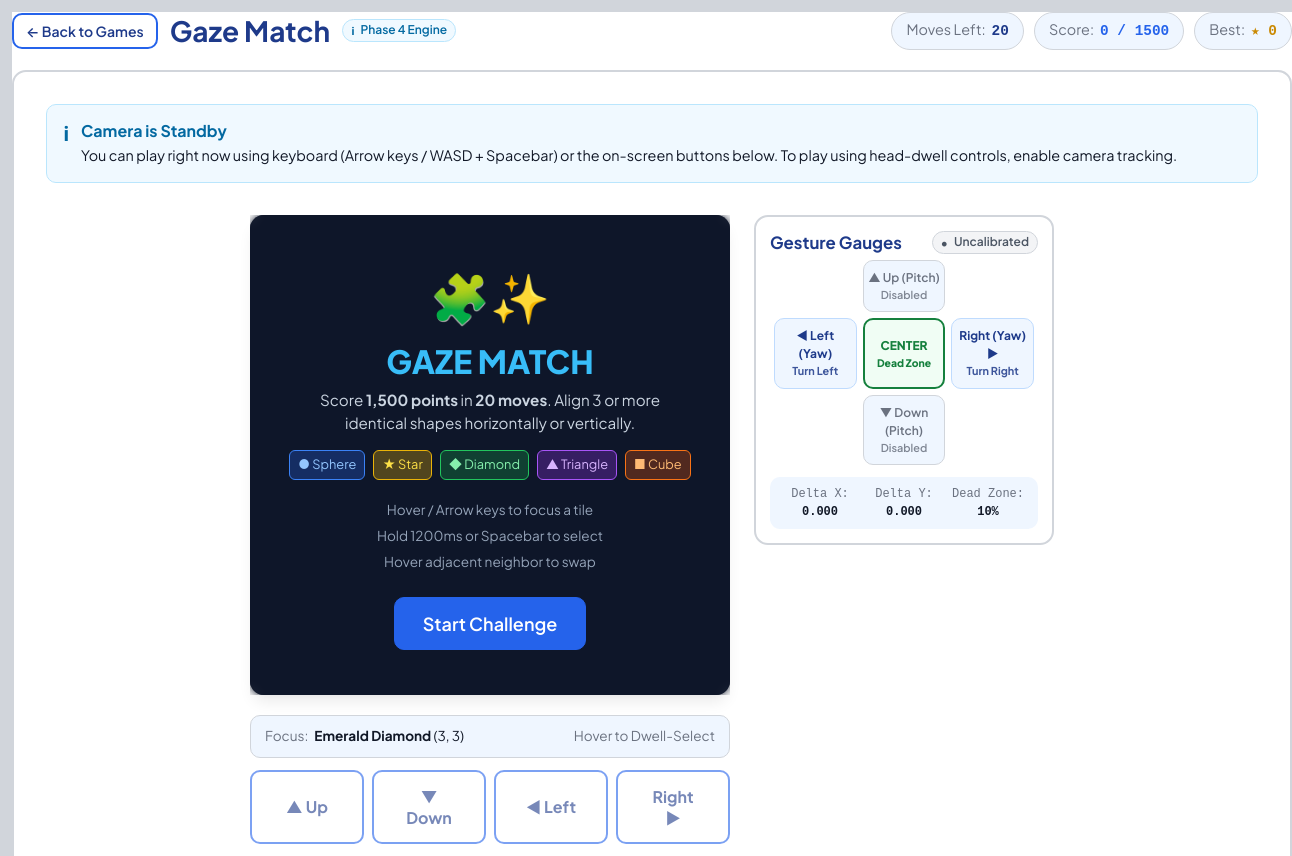
Test case: GazeMatch Component & UX Integration › 3. On-screen directional buttons shift focus around the 6x6 grid
Click the button "Start Challenge" at (490, 623), box [394, 597, 586, 650]
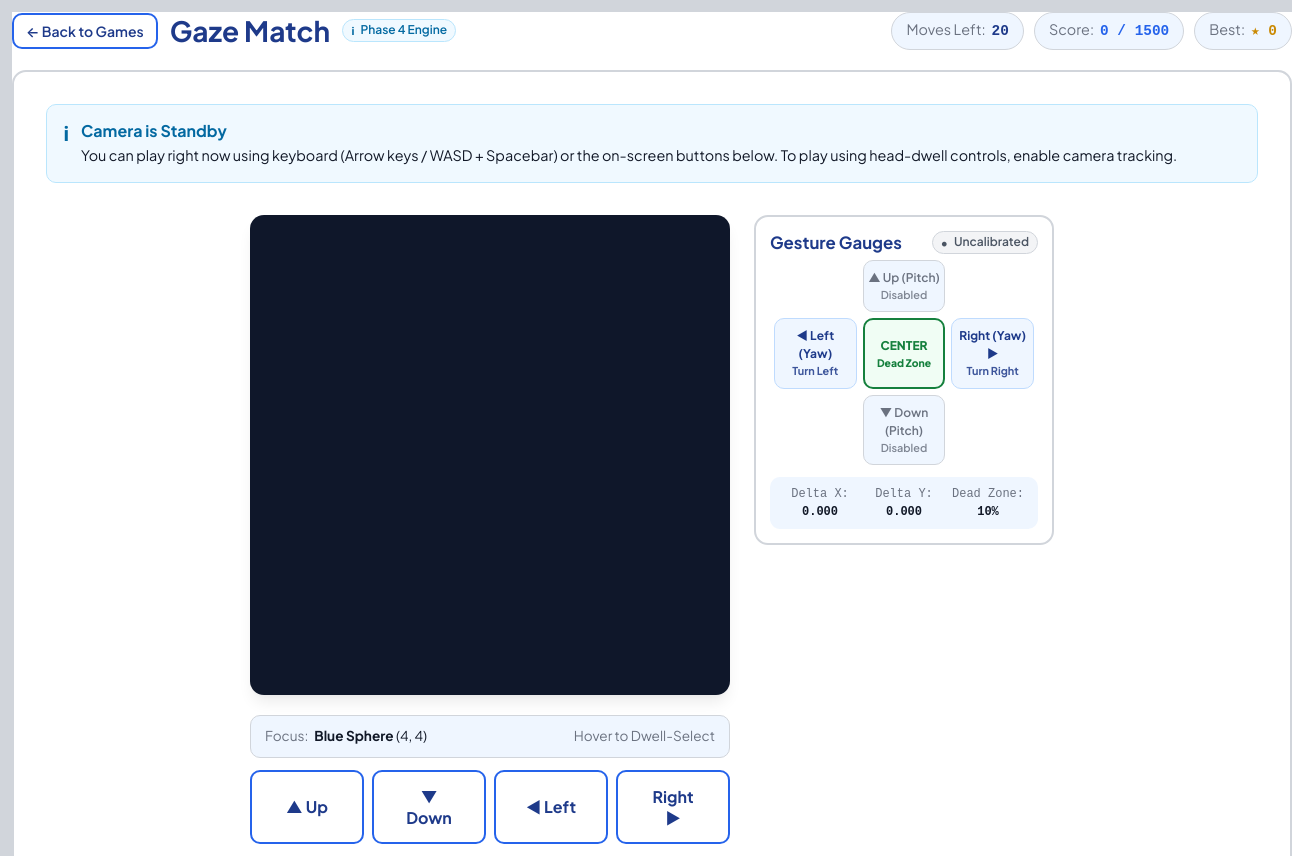
Now the text "Focus:Blue Sphere (4, 4)" is shown, box [265, 726, 427, 747]
Click the button "▲ Up" at (307, 807), box [250, 770, 364, 844]
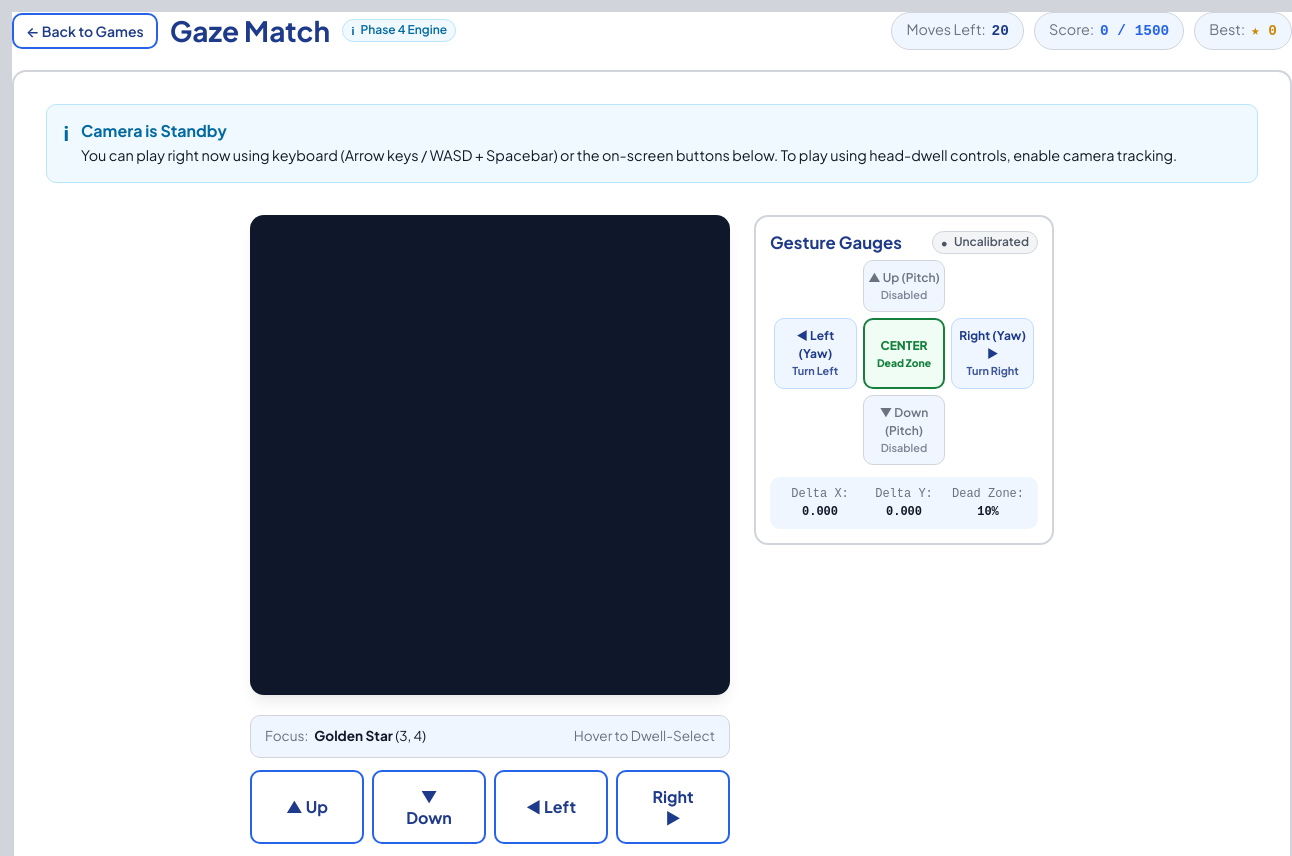
Now the text "Focus:Golden Star (3, 4)" is shown, box [265, 726, 426, 747]
Click the button "◀ Left" at (551, 807), box [494, 770, 608, 844]
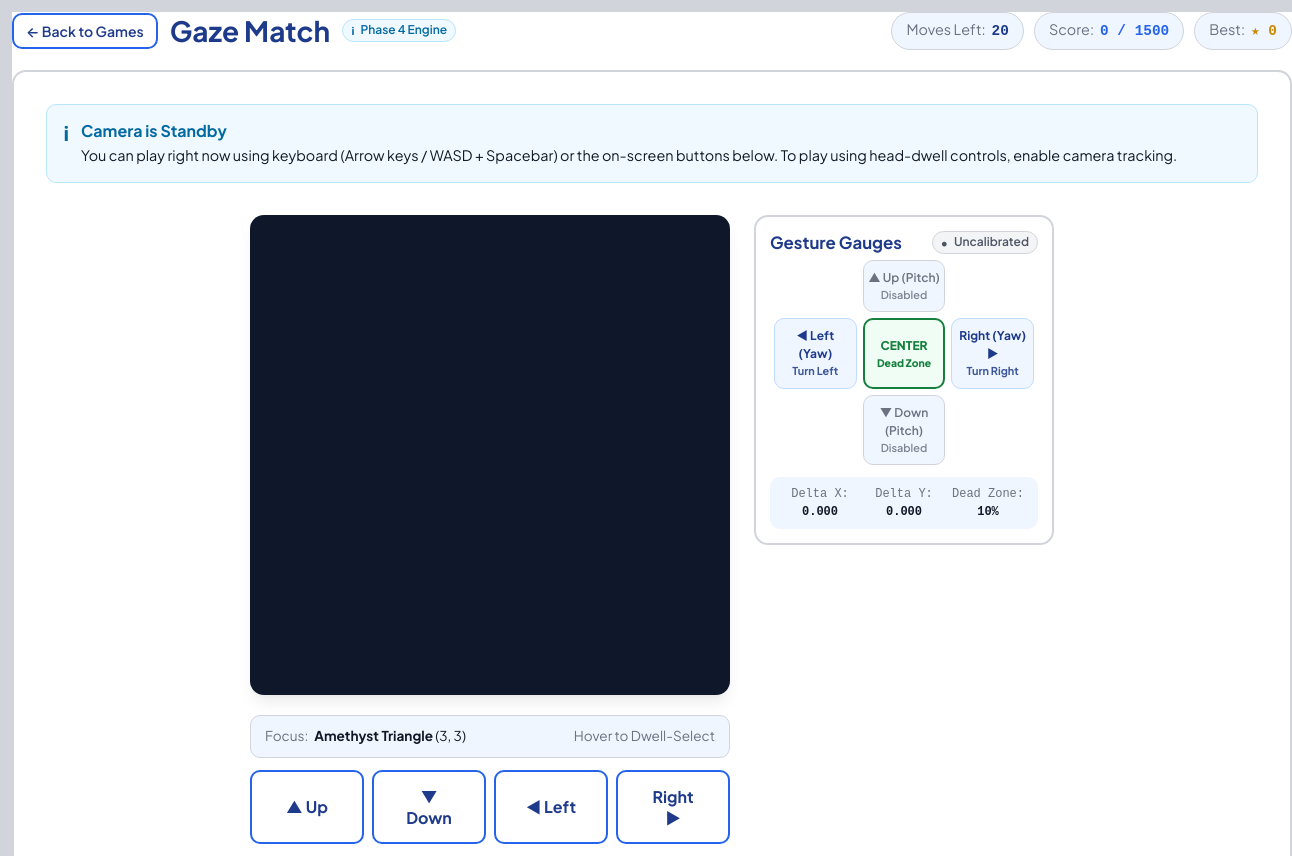
Now the text "Focus:Amethyst Triangle (3, 3)" is shown, box [265, 726, 466, 747]
